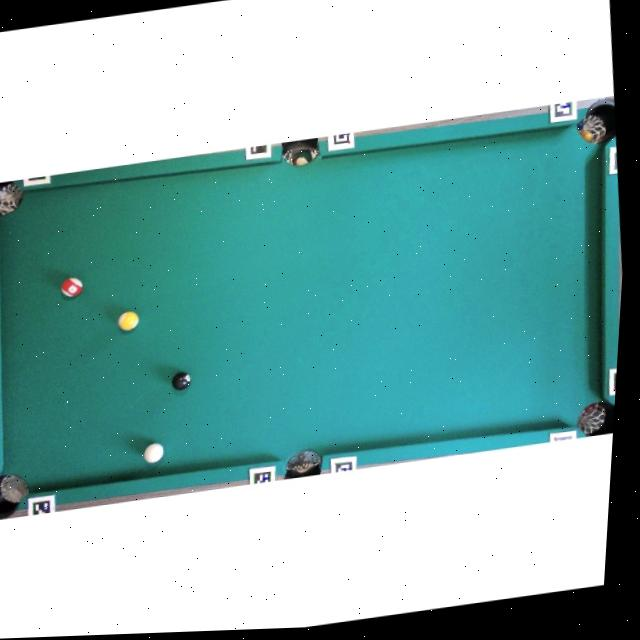cue ball: (140, 440, 165, 465)
other: (59, 275, 86, 300), (115, 308, 141, 332), (170, 370, 192, 391)
